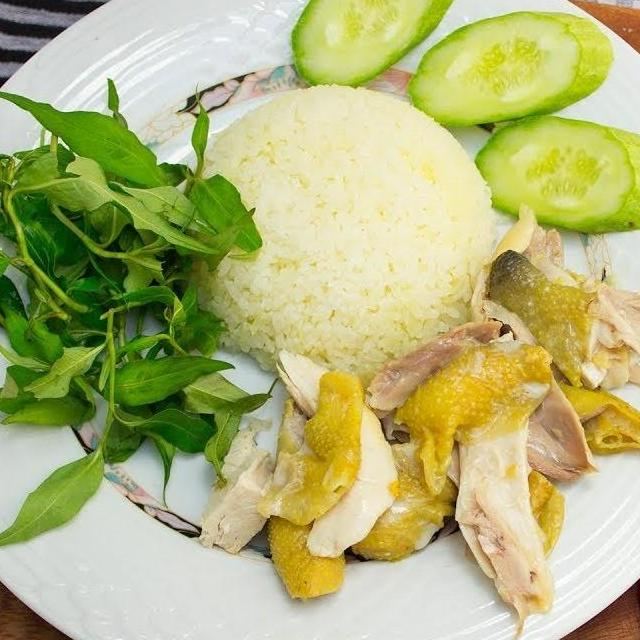com: (173, 77, 506, 396)
com ga: (0, 12, 640, 640)
rau ram: (0, 75, 268, 556)
thit ga: (353, 307, 640, 640), (194, 346, 463, 604), (465, 197, 640, 421)
